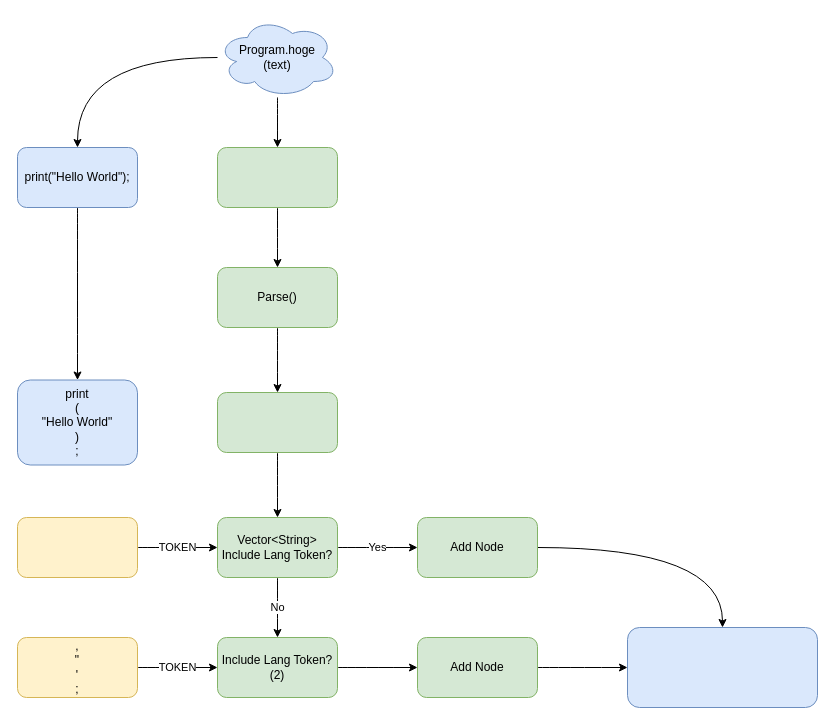
Some shapes in this 835 by 725 pixel diagram are drawn without their labels. Each missing label, with the box of its shape:
- Root:System - Print:Func - "Hello World":Str: (626, 626, 818, 708)
Load(): (216, 146, 338, 208)
print if for: (16, 516, 138, 578)
Split by Token: (216, 392, 338, 452)
